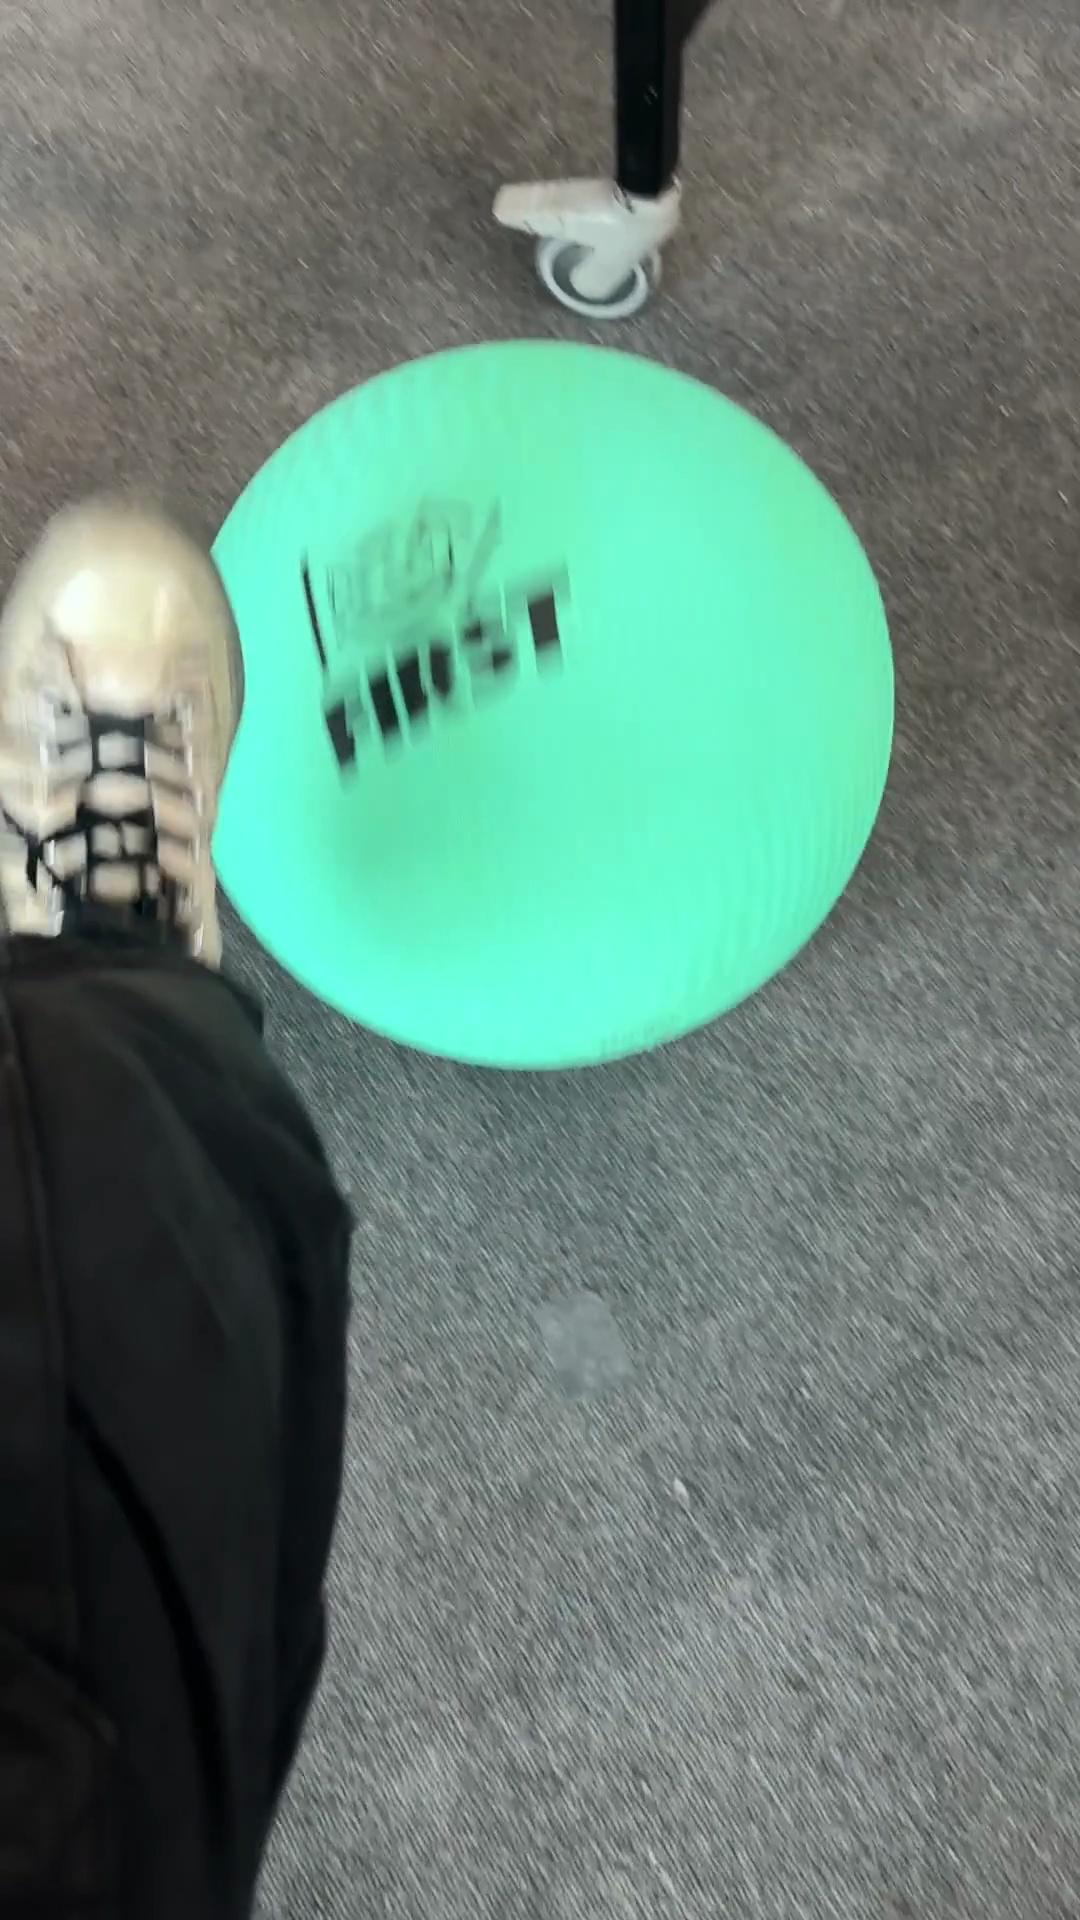ALGAE: (204, 334, 897, 1073)
